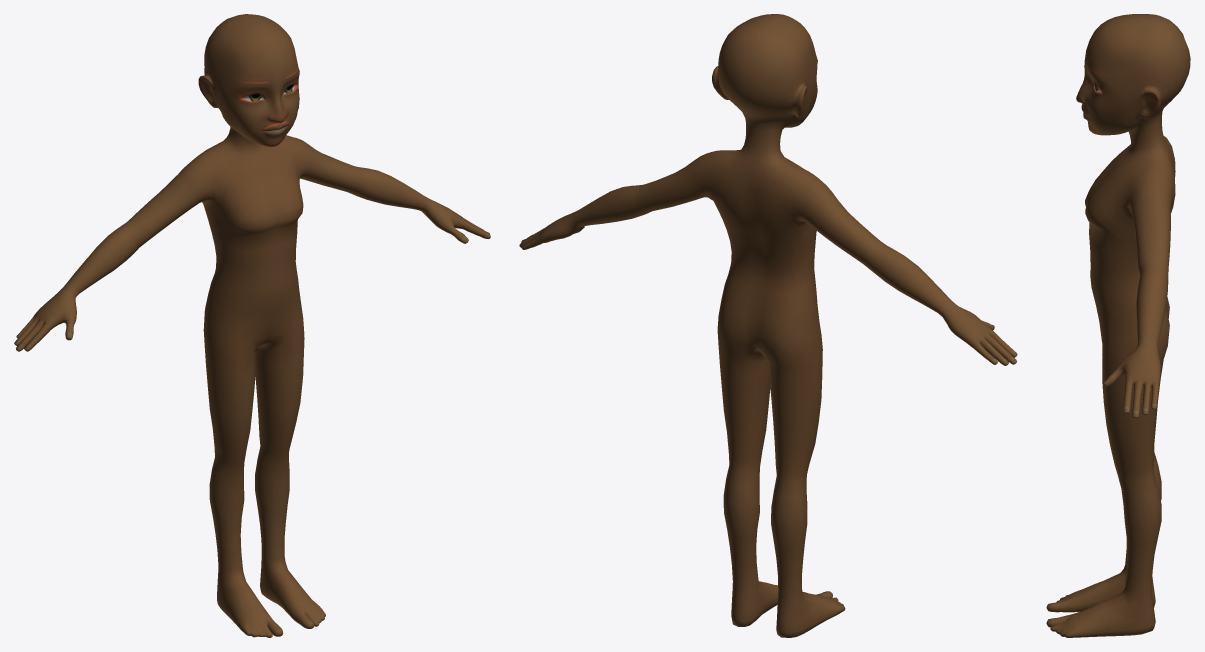
File: frame_0028.glb
3 renders of one model, left to right at view 1: azimuth 30°, elevation 25°; view 2: azimuth 150°, elevation 25°; view 3: azimuth 270°, elevation 25°, orthographic. The views are drawn at different scales.
Parts seen in each view (by area): view 1: frame_0028_head_geo; view 2: frame_0028_head_geo; view 3: frame_0028_head_geo.
Boxes of the visible parts, x1,y1,x2,y2 form: frame_0028_head_geo: (14,14,490,637); frame_0028_head_geo: (519,14,1017,637); frame_0028_head_geo: (1046,14,1190,637).
Bounding box in the file's own units: 1.28 × 1.5 × 0.3253.
Materials: 3 (3 with a texture image).
